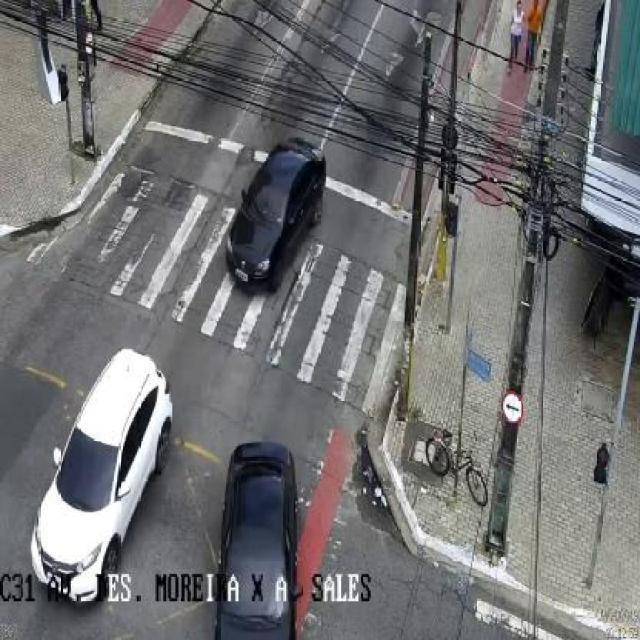Car: (30, 348, 174, 604), (213, 439, 304, 640), (225, 137, 328, 291)
Cycle: (425, 428, 489, 508)
